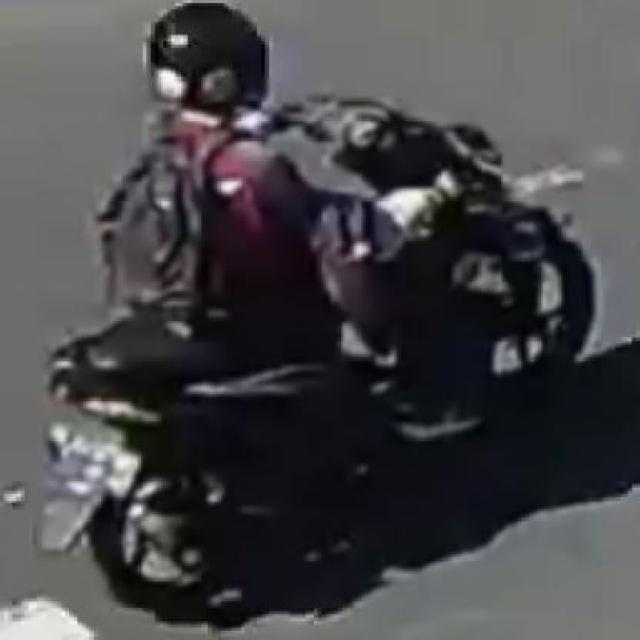helmet: (115, 0, 299, 138)
motorcycle: (47, 1, 605, 610)
